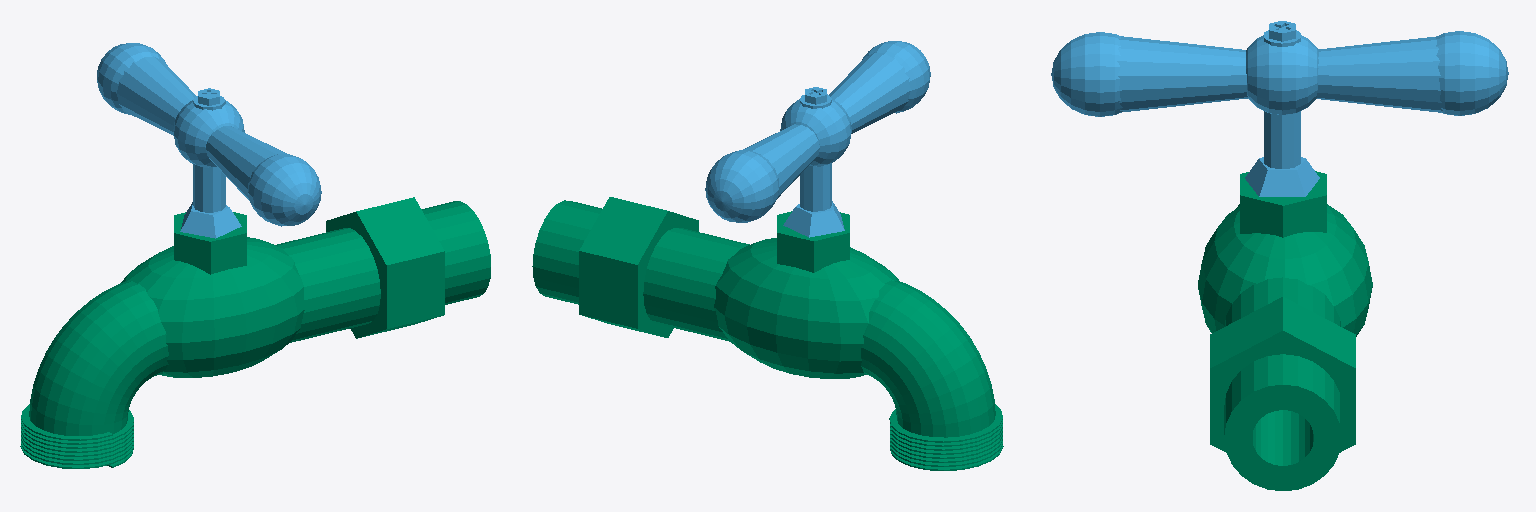
robot.urdf — partnet_f5768e78c91ac91dd5fb864340bb146:
<?xml version="1.0" ?>
<robot name="partnet_f5768e78c91ac91dd5fb864340bb146">
	<link name="base"/>
	<link name="link_0">
		<visual name="switch-2">
			<origin xyz="-0.001264 0 -0.1083915"/>
			<geometry>
				<mesh filename="textured_objs/original-25.obj"/>
			</geometry>
		</visual>
		<visual name="switch-2">
			<origin xyz="-0.001264 0 -0.1083915"/>
			<geometry>
				<mesh filename="textured_objs/original-23.obj"/>
			</geometry>
		</visual>
		<visual name="switch-2">
			<origin xyz="-0.001264 0 -0.1083915"/>
			<geometry>
				<mesh filename="textured_objs/original-21.obj"/>
			</geometry>
		</visual>
		<visual name="switch-2">
			<origin xyz="-0.001264 0 -0.1083915"/>
			<geometry>
				<mesh filename="textured_objs/original-17.obj"/>
			</geometry>
		</visual>
		<visual name="switch-2">
			<origin xyz="-0.001264 0 -0.1083915"/>
			<geometry>
				<mesh filename="textured_objs/original-16.obj"/>
			</geometry>
		</visual>
		<visual name="switch-2">
			<origin xyz="-0.001264 0 -0.1083915"/>
			<geometry>
				<mesh filename="textured_objs/original-19.obj"/>
			</geometry>
		</visual>
		<visual name="switch-2">
			<origin xyz="-0.001264 0 -0.1083915"/>
			<geometry>
				<mesh filename="textured_objs/original-20.obj"/>
			</geometry>
		</visual>
		<visual name="switch-2">
			<origin xyz="-0.001264 0 -0.1083915"/>
			<geometry>
				<mesh filename="textured_objs/original-24.obj"/>
			</geometry>
		</visual>
		<collision>
			<origin xyz="-0.001264 0 -0.1083915"/>
			<geometry>
				<mesh filename="textured_objs/original-25.obj"/>
			</geometry>
		</collision>
		<collision>
			<origin xyz="-0.001264 0 -0.1083915"/>
			<geometry>
				<mesh filename="textured_objs/original-23.obj"/>
			</geometry>
		</collision>
		<collision>
			<origin xyz="-0.001264 0 -0.1083915"/>
			<geometry>
				<mesh filename="textured_objs/original-21.obj"/>
			</geometry>
		</collision>
		<collision>
			<origin xyz="-0.001264 0 -0.1083915"/>
			<geometry>
				<mesh filename="textured_objs/original-17.obj"/>
			</geometry>
		</collision>
		<collision>
			<origin xyz="-0.001264 0 -0.1083915"/>
			<geometry>
				<mesh filename="textured_objs/original-16.obj"/>
			</geometry>
		</collision>
		<collision>
			<origin xyz="-0.001264 0 -0.1083915"/>
			<geometry>
				<mesh filename="textured_objs/original-19.obj"/>
			</geometry>
		</collision>
		<collision>
			<origin xyz="-0.001264 0 -0.1083915"/>
			<geometry>
				<mesh filename="textured_objs/original-20.obj"/>
			</geometry>
		</collision>
		<collision>
			<origin xyz="-0.001264 0 -0.1083915"/>
			<geometry>
				<mesh filename="textured_objs/original-24.obj"/>
			</geometry>
		</collision>
	</link>
	<joint name="joint_0" type="continuous">
		<origin xyz="0.001264 0 0.1083915"/>
		<axis xyz="0 1 0"/>
		<child link="link_0"/>
		<parent link="link_1"/>
	</joint>
	<link name="link_1">
		<visual name="vertical_support-9">
			<origin xyz="0 0 0"/>
			<geometry>
				<mesh filename="textured_objs/original-26.obj"/>
			</geometry>
		</visual>
		<visual name="connector-10">
			<origin xyz="0 0 0"/>
			<geometry>
				<mesh filename="textured_objs/original-27.obj"/>
			</geometry>
		</visual>
		<visual name="connector-11">
			<origin xyz="0 0 0"/>
			<geometry>
				<mesh filename="textured_objs/original-28.obj"/>
			</geometry>
		</visual>
		<visual name="mouth-6">
			<origin xyz="0 0 0"/>
			<geometry>
				<mesh filename="textured_objs/original-13.obj"/>
			</geometry>
		</visual>
		<visual name="tube-7">
			<origin xyz="0 0 0"/>
			<geometry>
				<mesh filename="textured_objs/original-29.obj"/>
			</geometry>
		</visual>
		<visual name="head-8">
			<origin xyz="0 0 0"/>
			<geometry>
				<mesh filename="textured_objs/original-8.obj"/>
			</geometry>
		</visual>
		<visual name="head-8">
			<origin xyz="0 0 0"/>
			<geometry>
				<mesh filename="textured_objs/original-11.obj"/>
			</geometry>
		</visual>
		<visual name="head-8">
			<origin xyz="0 0 0"/>
			<geometry>
				<mesh filename="textured_objs/original-4.obj"/>
			</geometry>
		</visual>
		<visual name="head-8">
			<origin xyz="0 0 0"/>
			<geometry>
				<mesh filename="textured_objs/original-10.obj"/>
			</geometry>
		</visual>
		<visual name="head-8">
			<origin xyz="0 0 0"/>
			<geometry>
				<mesh filename="textured_objs/original-7.obj"/>
			</geometry>
		</visual>
		<visual name="head-8">
			<origin xyz="0 0 0"/>
			<geometry>
				<mesh filename="textured_objs/original-9.obj"/>
			</geometry>
		</visual>
		<visual name="head-8">
			<origin xyz="0 0 0"/>
			<geometry>
				<mesh filename="textured_objs/original-5.obj"/>
			</geometry>
		</visual>
		<visual name="head-8">
			<origin xyz="0 0 0"/>
			<geometry>
				<mesh filename="textured_objs/original-6.obj"/>
			</geometry>
		</visual>
		<visual name="head-8">
			<origin xyz="0 0 0"/>
			<geometry>
				<mesh filename="textured_objs/original-12.obj"/>
			</geometry>
		</visual>
		<collision>
			<origin xyz="0 0 0"/>
			<geometry>
				<mesh filename="textured_objs/original-26.obj"/>
			</geometry>
		</collision>
		<collision>
			<origin xyz="0 0 0"/>
			<geometry>
				<mesh filename="textured_objs/original-27.obj"/>
			</geometry>
		</collision>
		<collision>
			<origin xyz="0 0 0"/>
			<geometry>
				<mesh filename="textured_objs/original-28.obj"/>
			</geometry>
		</collision>
		<collision>
			<origin xyz="0 0 0"/>
			<geometry>
				<mesh filename="textured_objs/original-13.obj"/>
			</geometry>
		</collision>
		<collision>
			<origin xyz="0 0 0"/>
			<geometry>
				<mesh filename="textured_objs/original-29.obj"/>
			</geometry>
		</collision>
		<collision>
			<origin xyz="0 0 0"/>
			<geometry>
				<mesh filename="textured_objs/original-8.obj"/>
			</geometry>
		</collision>
		<collision>
			<origin xyz="0 0 0"/>
			<geometry>
				<mesh filename="textured_objs/original-11.obj"/>
			</geometry>
		</collision>
		<collision>
			<origin xyz="0 0 0"/>
			<geometry>
				<mesh filename="textured_objs/original-4.obj"/>
			</geometry>
		</collision>
		<collision>
			<origin xyz="0 0 0"/>
			<geometry>
				<mesh filename="textured_objs/original-10.obj"/>
			</geometry>
		</collision>
		<collision>
			<origin xyz="0 0 0"/>
			<geometry>
				<mesh filename="textured_objs/original-7.obj"/>
			</geometry>
		</collision>
		<collision>
			<origin xyz="0 0 0"/>
			<geometry>
				<mesh filename="textured_objs/original-9.obj"/>
			</geometry>
		</collision>
		<collision>
			<origin xyz="0 0 0"/>
			<geometry>
				<mesh filename="textured_objs/original-5.obj"/>
			</geometry>
		</collision>
		<collision>
			<origin xyz="0 0 0"/>
			<geometry>
				<mesh filename="textured_objs/original-6.obj"/>
			</geometry>
		</collision>
		<collision>
			<origin xyz="0 0 0"/>
			<geometry>
				<mesh filename="textured_objs/original-12.obj"/>
			</geometry>
		</collision>
	</link>
	<joint name="joint_1" type="fixed">
		<origin rpy="1.570796326794897 0 -1.570796326794897" xyz="0 0 0"/>
		<child link="link_1"/>
		<parent link="base"/>
	</joint>
</robot>

--- Render facts (derived) ---
The picture shows the robot from 3 angles, left to right: view 1: azimuth 30°, elevation 25°; view 2: azimuth 150°, elevation 25°; view 3: azimuth 270°, elevation 25°; orthographic projection.
Robot: partnet_f5768e78c91ac91dd5fb864340bb146 — 3 links, 2 joints (1 continuous, 1 fixed); root link base; default pose: all joints at 0.
Visible links, largest first — view 1: link_1, link_0; view 2: link_1, link_0; view 3: link_1, link_0.
Link boxes in pixels (<box>): link_1: <box>20,197,490,468</box>; link_0: <box>97,43,321,238</box>; link_1: <box>532,197,1003,470</box>; link_0: <box>705,41,930,237</box>; link_1: <box>1198,171,1372,490</box>; link_0: <box>1051,21,1508,196</box>.
Bounding box of the posed robot: 1.81 × 1.37 × 1.29 m (x, y, z).
22 mesh visuals loaded from 22 distinct referenced files (22 OBJ).